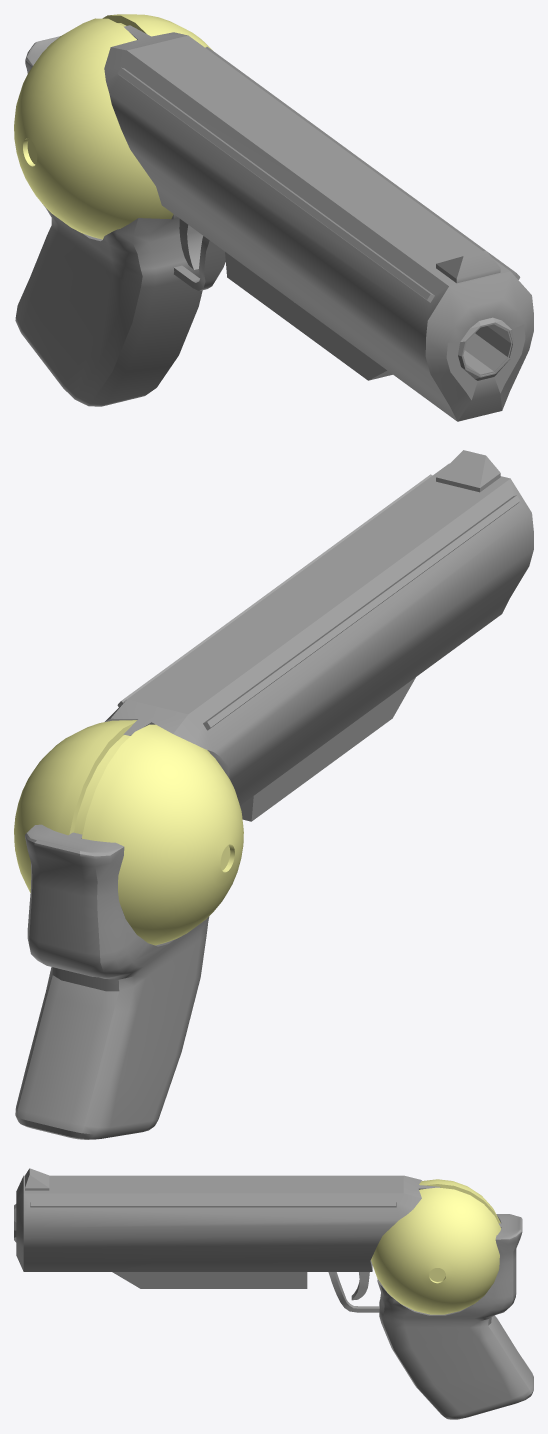
The model's file is Heavy_Pistol - Copy.fbx.
The picture shows the model from 3 angles, top to bottom: view 1: azimuth 30°, elevation 25°; view 2: azimuth 150°, elevation 25°; view 3: azimuth 270°, elevation 25°; orthographic projection. The views are drawn at different scales.
Parts seen in each view (by area): view 1: Gun_model, Battery, polySurface4; view 2: Gun_model, Battery; view 3: Gun_model, Battery.
Part boxes in pixels (x1,y1,x2,y2): Gun_model: (15,25,533,421); Battery: (14,14,212,239); polySurface4: (179,219,202,269); Gun_model: (15,450,533,1139); Battery: (14,720,243,945); Gun_model: (14,1168,533,1419); Battery: (371,1179,500,1314).
Size of the model in its own units: 0.7709 by 1.52 by 2.98.
